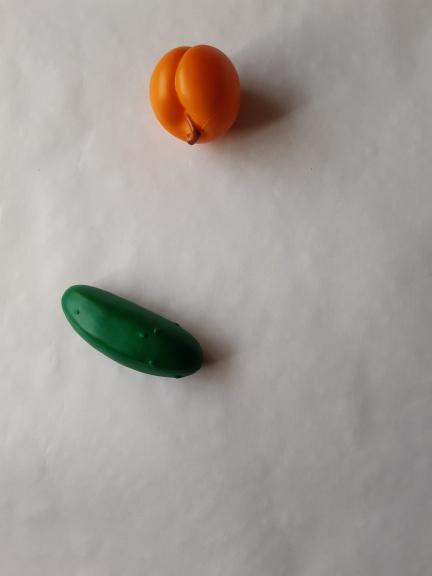apricot: (139, 36, 250, 150)
cucumber: (51, 276, 211, 388)
